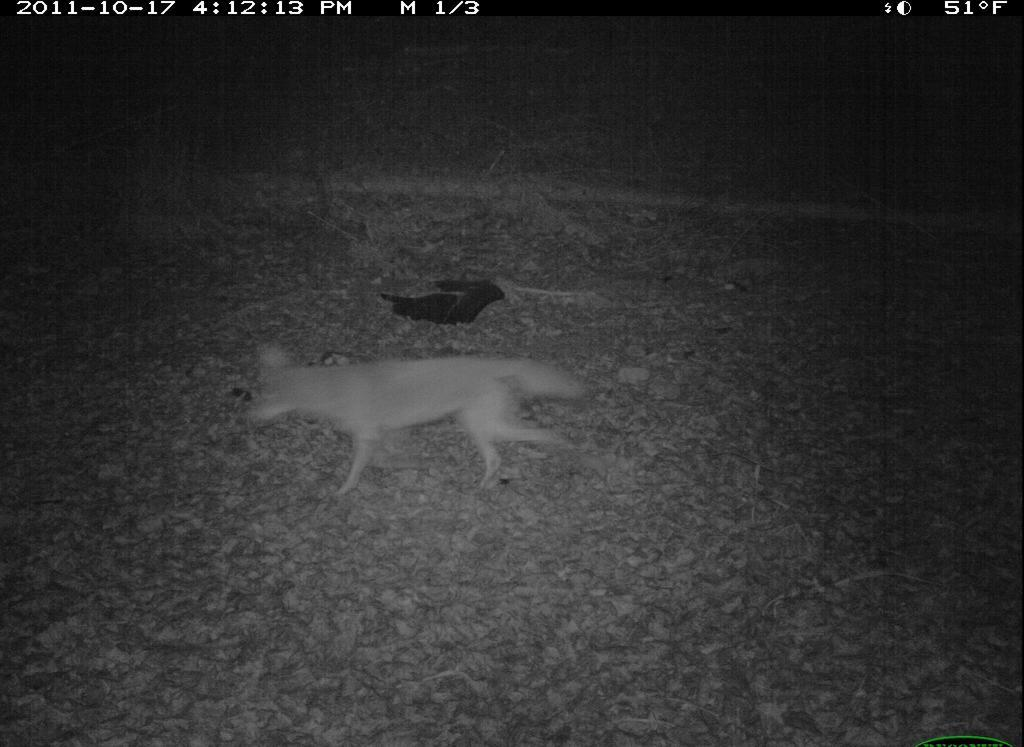coyote: (244, 340, 592, 502)
